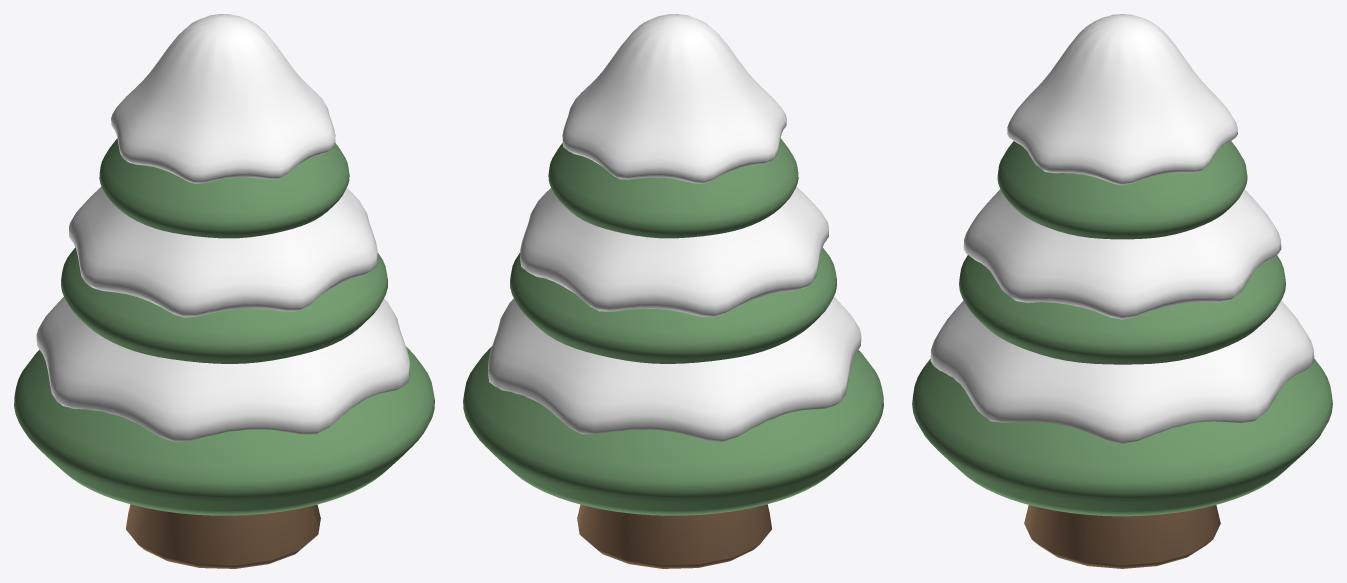
File: tree4.fbx
3 views of the same model, side by side, from view 1: azimuth 30°, elevation 25°; view 2: azimuth 150°, elevation 25°; view 3: azimuth 270°, elevation 25° (orthographic).
Visible parts, largest first — view 1: tree4; view 2: tree4; view 3: tree4.
Boxes of the visible parts, box(x1,y1,x2,y2) form: tree4: box(14, 14, 434, 568); tree4: box(463, 14, 883, 568); tree4: box(912, 14, 1332, 568).
Size of the model in its own units: 447 by 601 by 447.
